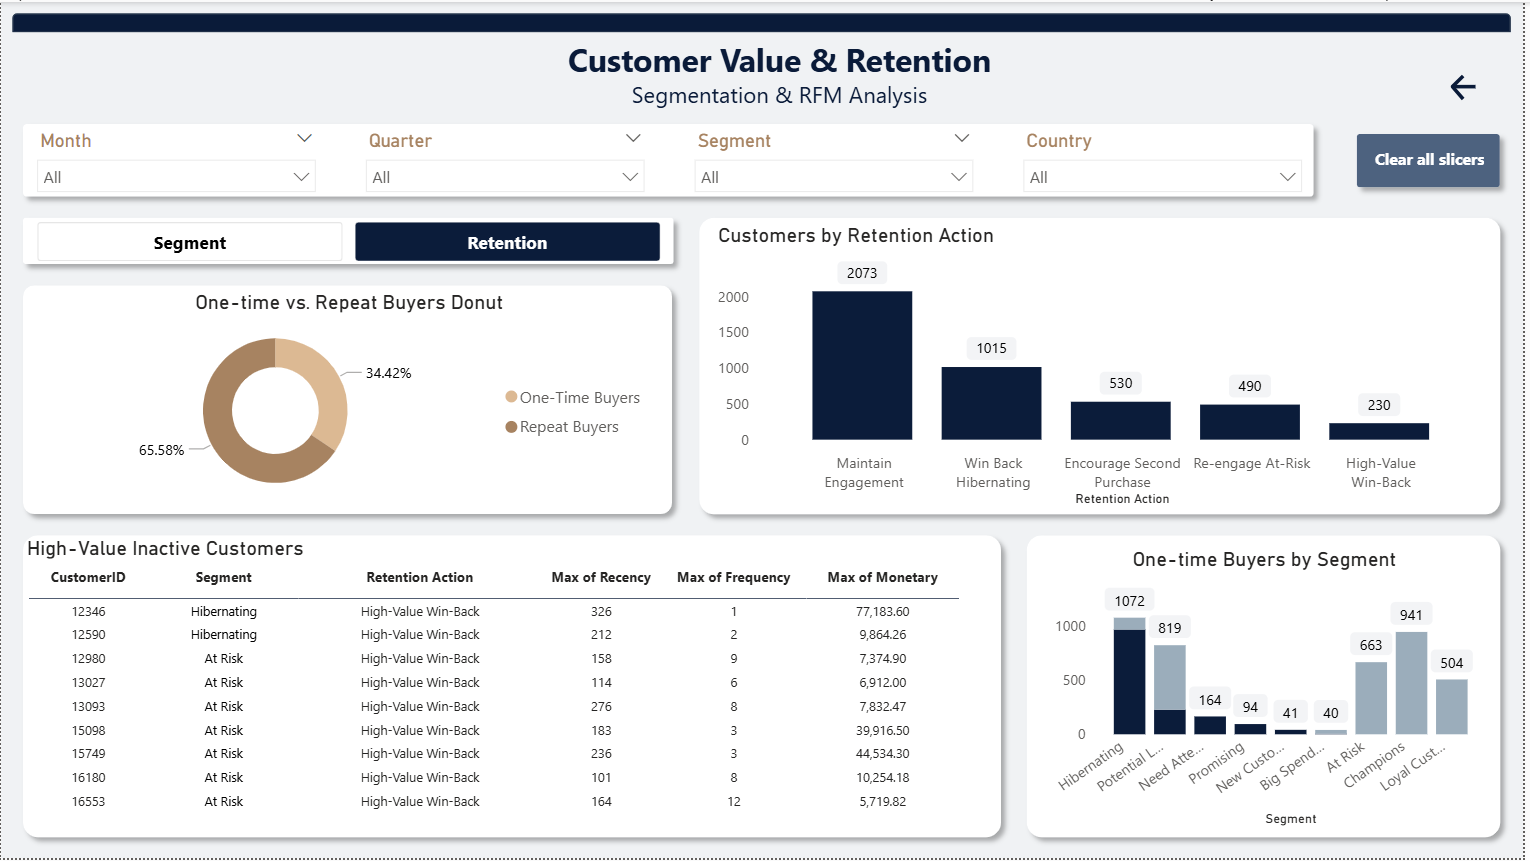

Layout of this report page (visuals, bound fields, positions):
{"tool":"powerbi","page":{"name":"RFM Analysis","canvas":[1280,720],"ordinal":1},"visuals":[{"type":"shape","box":[9.3,94,1103.5,79.1],"z":0,"group":"g4"},{"type":"shape","box":[1131.4,102.3,138.4,62.8],"z":0,"group":"g3"},{"type":"slicer","fields":{"Values":["MonthlySales.Month.Variation.Date Hierarchy.Month"]},"box":[19.8,103.2,255.1,61.9],"z":0,"group":"g1"},{"type":"shape","box":[577.9,172.1,691.9,267.4],"z":0,"group":"g2"},{"type":"donutChart","title":"One-time vs. Repeat Buyers Donut","fields":{"Y":["CustomerRFM.One-Time Buyers","CustomerRFM.Repeat Buyers"]},"box":[33.8,242,518.6,184.9],"z":0,"group":"g5"},{"type":"shape","box":[853.5,439.5,416.3,272.1],"z":0},{"type":"group","id":"g1","title":"Group 1","box":[19.8,103.2,1084.7,61.9],"z":1000,"group":"g4"},{"type":"slicer","fields":{"Values":["MonthlySales.Month.Variation.Date Hierarchy.Quarter"]},"box":[296.4,103.2,255.1,61.9],"z":1000,"group":"g1"},{"type":"actionButton","box":[1141.4,105.4,119.8,52.3],"z":1000,"group":"g3"},{"type":"shape","box":[9.3,229.1,564,210.5],"z":1000},{"type":"columnChart","title":"One-time Buyers by Segment","fields":{"Category":["CustomerRFM.Segment"],"Y":["CustomerRFM.One-Time Buyers","CustomerRFM.Repeat Buyers"]},"box":[872.8,458.8,380.2,239.5],"z":1000,"group":"g5"},{"type":"textbox","box":[447.7,25.6,414,75.6],"z":2000},{"type":"slicer","fields":{"Values":["CustomerRFM.Segment"]},"box":[573,103.2,255.1,61.9],"z":2000,"group":"g1"},{"type":"tableEx","title":"High-Value Inactive Customers","fields":{"Values":["CustomerRFM.CustomerID","CustomerRFM.Segment","CustomerRFM.Retention Action","Max(CustomerRFM.Recency)","Max(CustomerRFM.Frequency)","Max(CustomerRFM.Monetary)"]},"box":[16.8,448.8,823.3,240.7],"z":2000,"group":"g5"},{"type":"slicer","fields":{"Values":["SalesTransactions.Country"]},"box":[849.4,103.2,255.1,61.9],"z":3000,"group":"g1"},{"type":"clusteredColumnChart","title":"Customers by Retention Action","fields":{"Y":["CustomerRFM.Total Customers"],"Category":["CustomerRFM.Retention Action"]},"box":[597.8,186.2,654.7,243],"z":3000,"group":"g5"},{"type":"shape","box":[9.3,439.5,840.7,272.1],"z":3000},{"type":"group","id":"g2","title":"Group 2","box":[577.9,172.1,691.9,267.4],"z":4000},{"type":"shape","box":[9.3,9.3,1260.5,16.3],"z":5000},{"type":"actionButton","box":[1215.1,57,37.2,30.2],"z":6000},{"type":"shape","box":[9.3,172.1,565.1,57],"z":7000},{"type":"group","id":"g3","title":"Group 8","box":[1131.4,102.3,138.4,62.8],"z":8000},{"type":"group","id":"g4","title":"Group 9","box":[9.3,94,1103.5,79.1],"z":9000},{"type":"group","id":"g5","title":"Retention","box":[16.8,186.2,1236.2,512.2],"z":10000},{"type":"bookmarkNavigator","box":[30.2,184.9,525.6,33.7],"z":11000}]}

Visuals, with their boxes in screenshot pixels (x1, y1, x2, y2), scaled from the page's 1280x720 canvas onto the 1530x861 screenshot:
shape: 11, 112, 1330, 207
shape: 1352, 122, 1518, 197
slicer - MonthlySales.Month.Variation.Date Hierarchy.Month: 24, 123, 329, 197
shape: 691, 206, 1518, 526
"One-time vs. Repeat Buyers Donut" donutChart: 40, 289, 660, 511
shape: 1020, 526, 1518, 851
"Group 1" group: 24, 123, 1320, 197
slicer - MonthlySales.Month.Variation.Date Hierarchy.Quarter: 354, 123, 659, 197
actionButton: 1364, 126, 1508, 189
shape: 11, 274, 685, 526
"One-time Buyers by Segment" columnChart: 1043, 549, 1498, 835
textbox: 535, 31, 1030, 121
slicer - CustomerRFM.Segment: 685, 123, 990, 197
"High-Value Inactive Customers" tableEx: 20, 537, 1004, 825
slicer - SalesTransactions.Country: 1015, 123, 1320, 197
"Customers by Retention Action" clusteredColumnChart: 715, 223, 1497, 513
shape: 11, 526, 1016, 851
"Group 2" group: 691, 206, 1518, 526
shape: 11, 11, 1518, 31
actionButton: 1452, 68, 1497, 104
shape: 11, 206, 687, 274
"Group 8" group: 1352, 122, 1518, 197
"Group 9" group: 11, 112, 1330, 207
"Retention" group: 20, 223, 1498, 835
bookmarkNavigator: 36, 221, 664, 261
